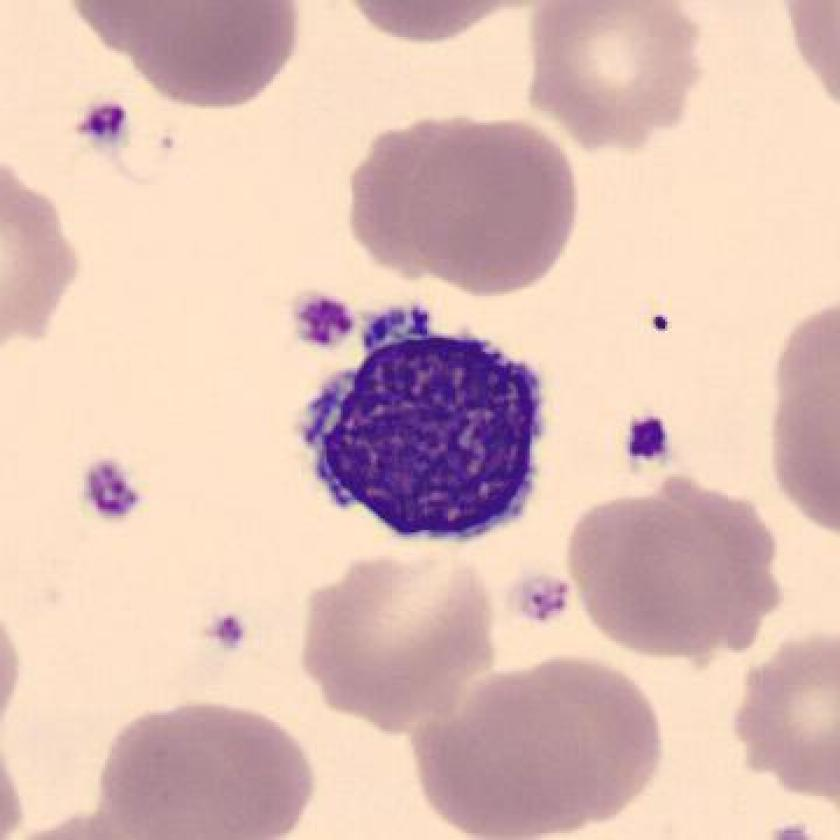lymphocyte: (293, 300, 561, 561)
platelets: (290, 287, 361, 352), (83, 454, 146, 526), (65, 96, 141, 154), (513, 569, 580, 626), (619, 407, 676, 462), (201, 603, 255, 658), (649, 309, 673, 346)
